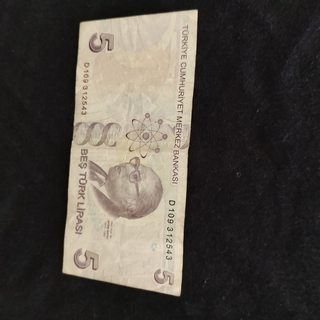5TLBack: (61, 9, 199, 296)
